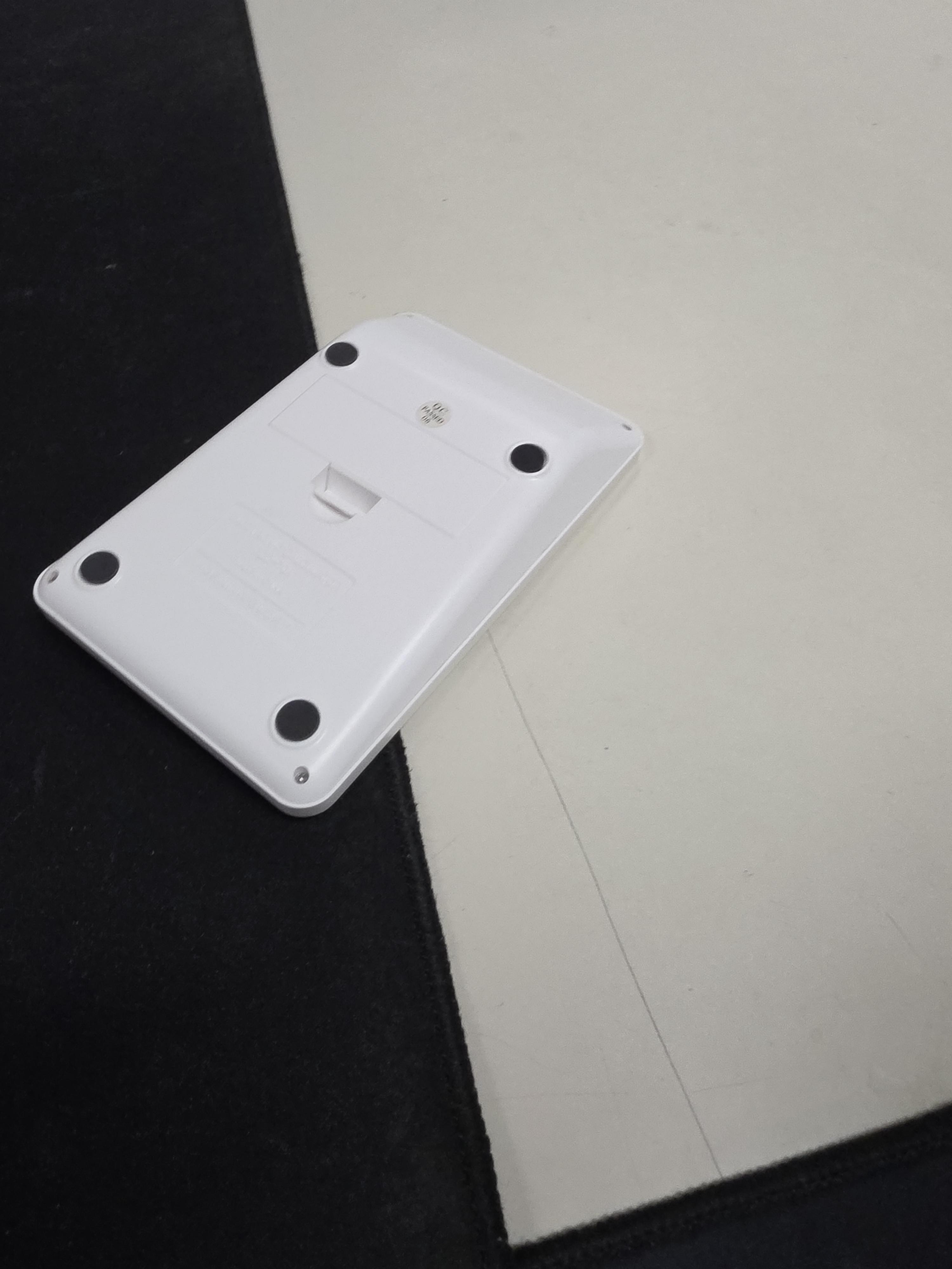calculator: (32, 311, 645, 818)
